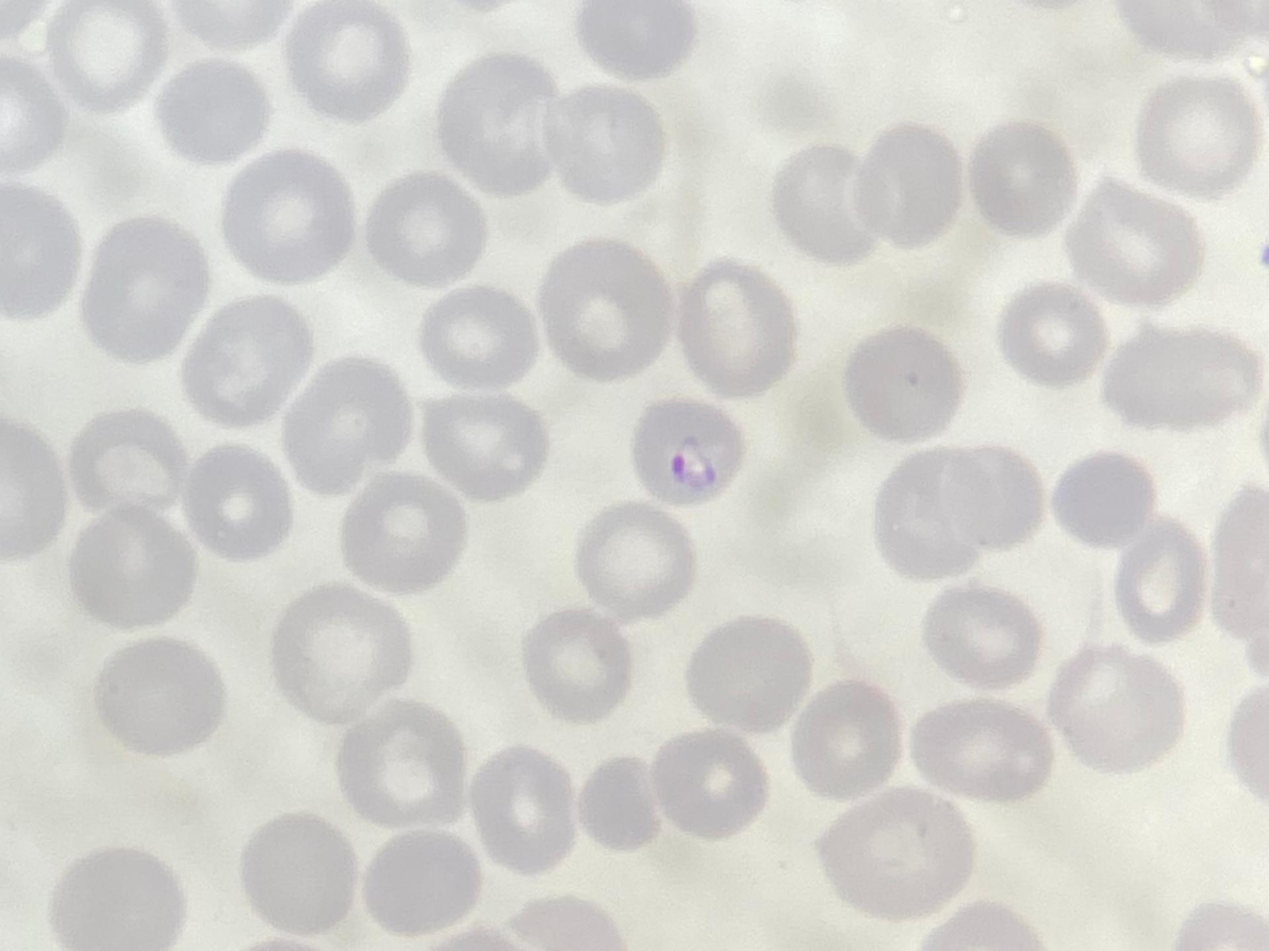Infected: (632, 399, 746, 508)
Uninfected: (817, 789, 975, 922), (269, 582, 411, 728), (538, 236, 679, 383), (220, 146, 360, 286), (278, 353, 413, 493), (1064, 175, 1204, 309), (75, 223, 210, 361), (441, 54, 565, 199), (1049, 644, 1182, 777), (339, 463, 469, 595), (1102, 327, 1263, 433), (185, 296, 317, 425), (337, 696, 460, 834), (679, 256, 793, 401), (1132, 76, 1259, 204), (456, 745, 573, 880), (872, 448, 988, 583), (73, 505, 195, 631), (48, 842, 188, 951), (414, 393, 548, 506), (690, 618, 817, 736), (93, 644, 223, 759), (577, 501, 698, 624), (542, 84, 662, 207), (848, 124, 962, 252), (784, 679, 902, 802), (245, 811, 361, 935), (284, 5, 407, 120), (912, 697, 1050, 799), (842, 327, 958, 445), (364, 173, 482, 287), (773, 140, 883, 262), (62, 406, 182, 517), (969, 120, 1080, 239), (183, 446, 292, 567), (51, 0, 165, 115), (156, 58, 275, 165), (522, 609, 630, 725), (652, 732, 767, 840), (421, 285, 538, 390), (366, 829, 483, 932), (925, 589, 1038, 693), (0, 173, 79, 320), (1000, 278, 1104, 387), (1117, 521, 1209, 639), (947, 448, 1050, 552), (579, 1, 699, 83), (1053, 452, 1152, 547), (579, 754, 661, 853)
